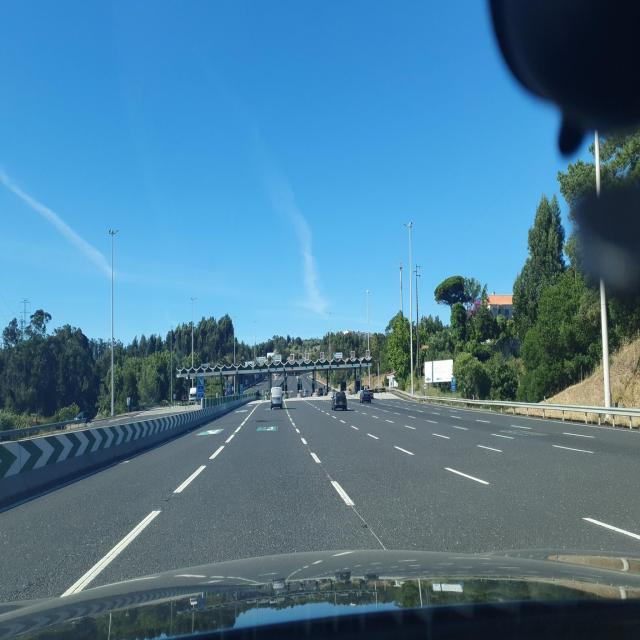car: (332, 390, 348, 411), (270, 388, 284, 409), (360, 387, 373, 404)
